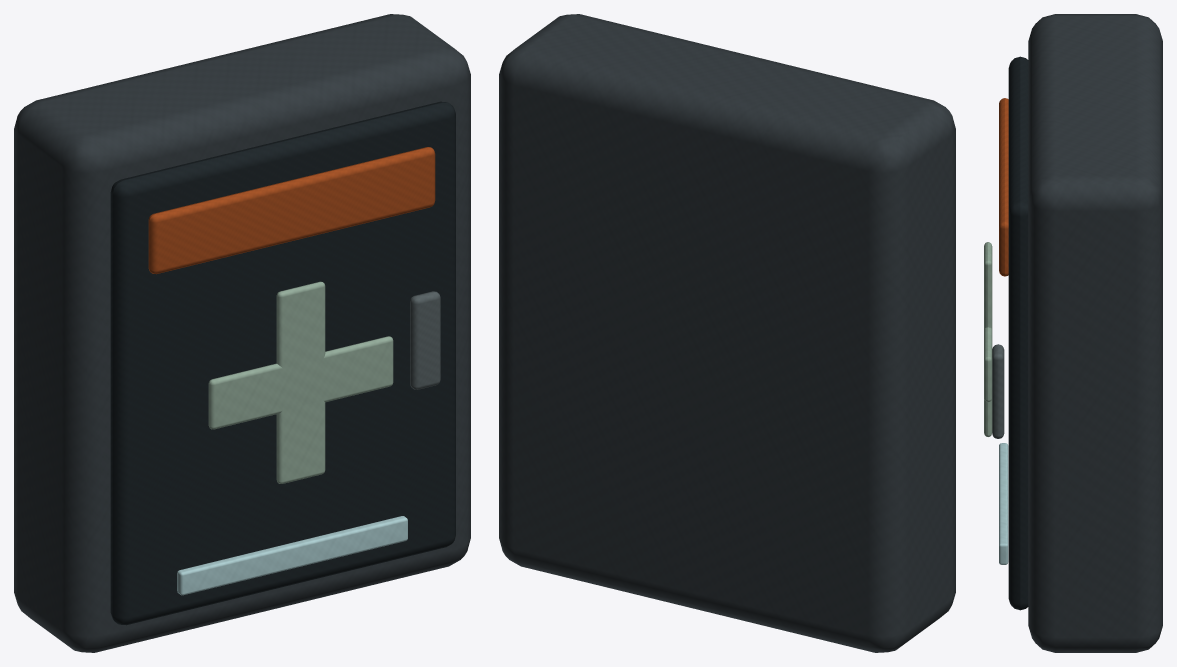
Rendered from FirstAidCase.fbx.
3 views of the same model, side by side, from view 1: azimuth 30°, elevation 25°; view 2: azimuth 150°, elevation 25°; view 3: azimuth 270°, elevation 25° (orthographic). The views are drawn at different scales.
Visible parts, largest first — view 1: FirstAidCase_Mesh; view 2: FirstAidCase_Mesh; view 3: FirstAidCase_Mesh.
Part boxes in pixels (x1,y1,x2,y2): FirstAidCase_Mesh: (14, 14, 470, 652); FirstAidCase_Mesh: (499, 14, 955, 652); FirstAidCase_Mesh: (984, 14, 1162, 652).
Size of the model in its own units: 64 by 78 by 26.6.
Materials: 6 (6 with a texture image).
